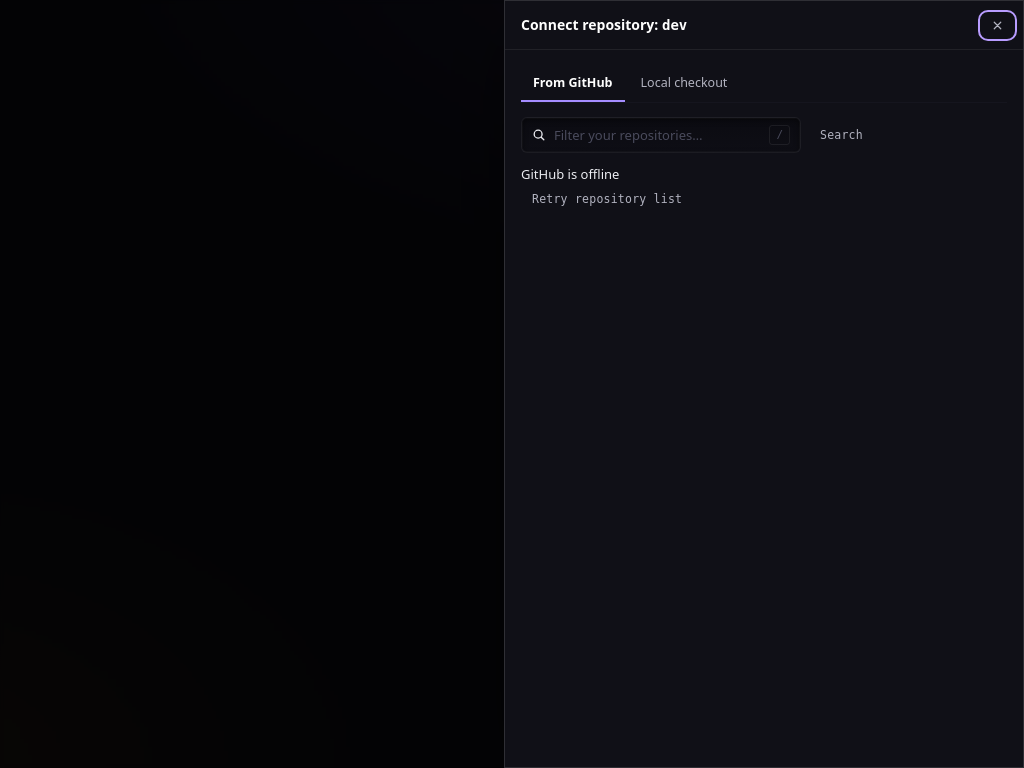
Test: retries an unavailable repository list without changing the search
Click the button "Retry repository list".
click(607, 200)  # box [521,184,693,215]
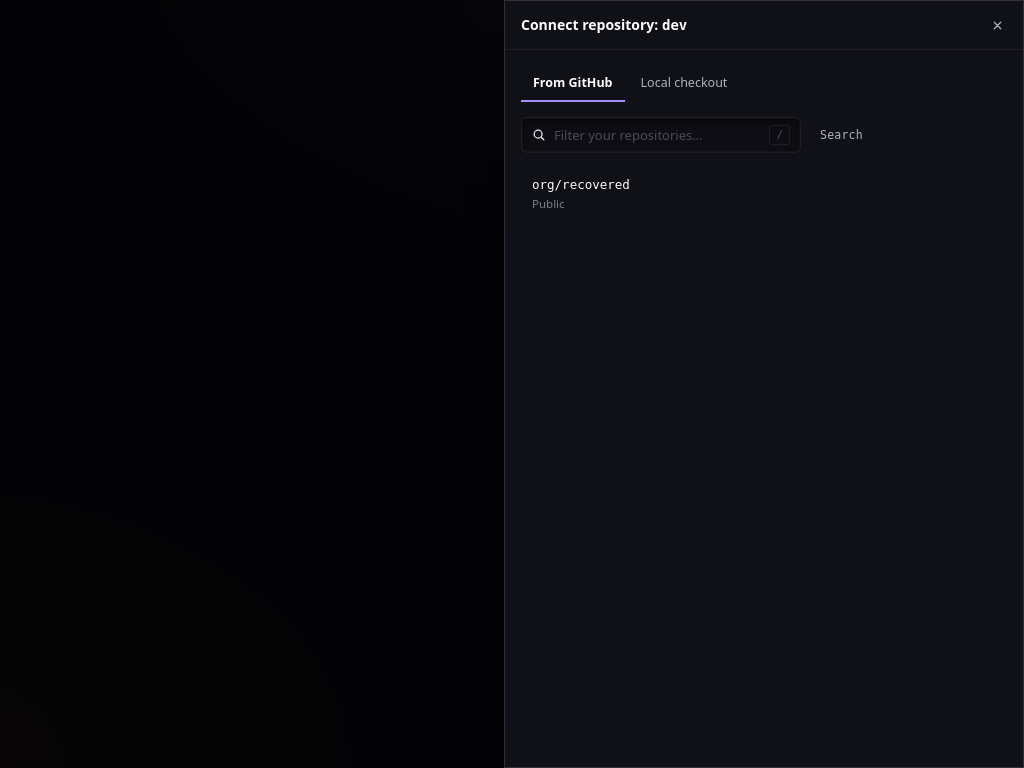
Expected: the text "org/recovered" is shown, [532,177,630,192]
